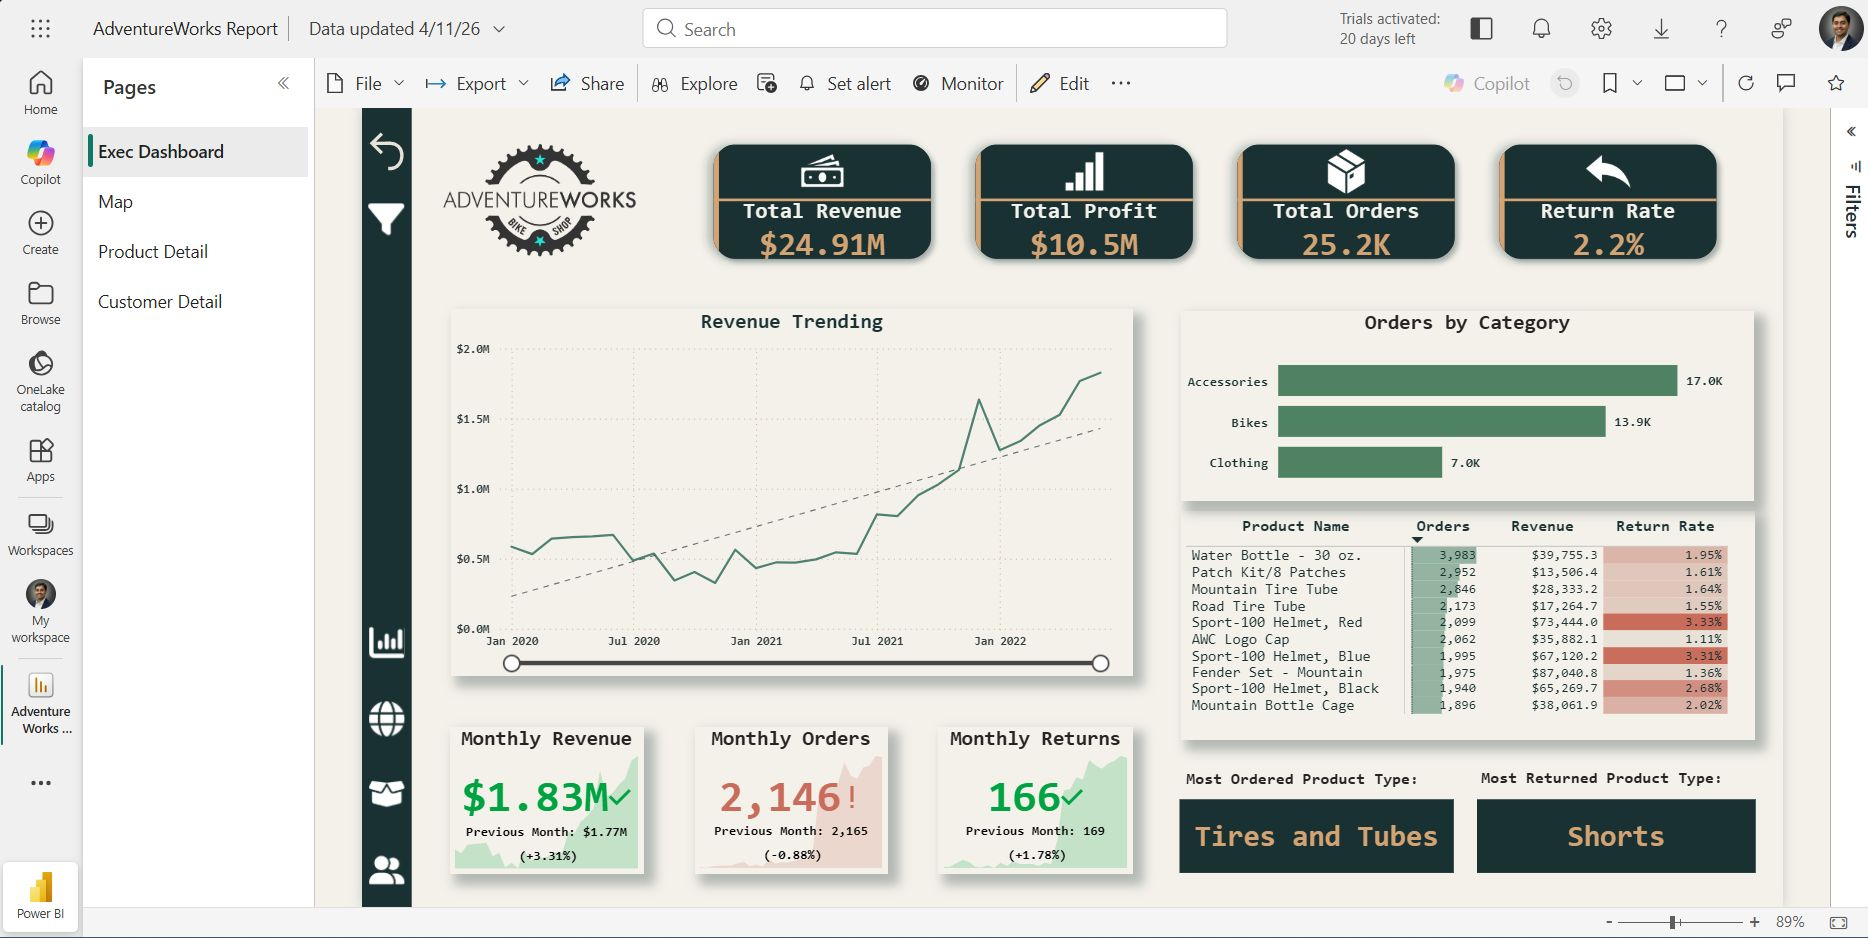

The dashboard page shown, as its layout file describes it:
{"tool":"powerbi","page":{"name":"Exec Dashboard","canvas":[1280,720],"ordinal":0},"visuals":[{"type":"image","title":"AW Logo","box":[53.8,12.5,212.5,141.2],"z":0},{"type":"actionButton","box":[0,529.9,44.8,39.8],"z":0,"group":"g1"},{"type":"shape","title":"Left Nav Background","box":[0,0,45,720],"z":1000},{"type":"actionButton","box":[0,461.5,44.8,39.8],"z":1000,"group":"g1"},{"type":"actionButton","box":[0,598.3,44.8,39.8],"z":2000,"group":"g1"},{"type":"lineChart","title":"Revenue Trending","fields":{"Category":["dim Calendar.Year","dim Calendar.Start of Quarter","dim Calendar.Start of Month"],"Y":["Measure Table.Total Revenue"]},"box":[79.8,181.6,614.7,330.1],"z":3000},{"type":"actionButton","box":[0,666.8,44.8,39.8],"z":3000,"group":"g1"},{"type":"kpi","title":"Monthly Revenue ","fields":{"Goal":["Measure Table.Previous Month Revenue"],"Indicator":["Measure Table.Total Revenue"],"TrendLine":["dim Calendar.Start of Month"]},"box":[79.3,557.1,175,133],"z":5000},{"type":"kpi","title":"Monthly Orders","fields":{"Goal":["Measure Table.Previous Month Orders"],"Indicator":["Measure Table.Total Orders"],"TrendLine":["dim Calendar.Start of Month"]},"box":[299.5,557.1,174.2,132.5],"z":6000},{"type":"kpi","title":"Monthly Returns","fields":{"Goal":["Measure Table.Previous Month Returns"],"Indicator":["Measure Table.Total Returns"],"TrendLine":["dim Calendar.Start of Month"]},"box":[519,557.1,175.5,132.5],"z":7000},{"type":"barChart","title":"Orders by Category","fields":{"Category":["dim Product Categories.CategoryName"],"Y":["Measure Table.Total Orders"]},"box":[737.3,182.1,516.7,172.2],"z":8000},{"type":"pivotTable","fields":{"Rows":["dim Product.ProductName"],"Values":["Measure Table.Total Orders","Measure Table.Total Revenue","Measure Table.Return Rate"]},"box":[737.4,363.2,517.8,206.1],"z":9000},{"type":"card","fields":{"Values":["Min(dim Product Subcategories.SubcategoryName)"]},"box":[736.9,623,247.1,66.6],"z":10000},{"type":"textbox","box":[737.5,590,247.5,33.8],"z":11000},{"type":"card","fields":{"Values":["Min(dim Product Subcategories.SubcategoryName)"]},"box":[1004.8,623,251.6,66.6],"z":12000},{"type":"textbox","box":[1003.8,588.8,250,35],"z":13000},{"type":"actionButton","box":[0,12.5,45,52.5],"z":14000},{"type":"group","id":"g1","title":"Navigation Buttons","box":[0,461.5,44.8,245.1],"z":15000},{"type":"actionButton","box":[0,79.8,44.2,40.5],"z":16000},{"type":"cardVisual","fields":{"Data":["Measure Table.Total Revenue","Measure Table.Total Profit","Measure Table.Total Orders","Measure Table.Return Rate"]},"box":[283.4,0,973,169.3],"z":17001}]}

Visuals, with their boxes on the page's 1280x720 design canvas (x1, y1, x2, y2). These are canvas units, not pixel positions in the 1868x938 screenshot, which may show the page scaled, cropped or inside an application window:
"AW Logo" image: box=[54, 12, 266, 154]
actionButton: box=[0, 530, 45, 570]
"Left Nav Background" shape: box=[0, 0, 45, 720]
actionButton: box=[0, 462, 45, 501]
actionButton: box=[0, 598, 45, 638]
"Revenue Trending" lineChart: box=[80, 182, 694, 512]
actionButton: box=[0, 667, 45, 707]
"Monthly Revenue " kpi: box=[79, 557, 254, 690]
"Monthly Orders" kpi: box=[300, 557, 474, 690]
"Monthly Returns" kpi: box=[519, 557, 694, 690]
"Orders by Category" barChart: box=[737, 182, 1254, 354]
pivotTable - dim Product.ProductName x Measure Table.Total Orders: box=[737, 363, 1255, 569]
card - Min(dim Product Subcategories.SubcategoryName): box=[737, 623, 984, 690]
textbox: box=[738, 590, 985, 624]
card - Min(dim Product Subcategories.SubcategoryName): box=[1005, 623, 1256, 690]
textbox: box=[1004, 589, 1254, 624]
actionButton: box=[0, 12, 45, 65]
"Navigation Buttons" group: box=[0, 462, 45, 707]
actionButton: box=[0, 80, 44, 120]
cardVisual - Measure Table.Total Revenue x Measure Table.Total Profit: box=[283, 0, 1256, 169]
